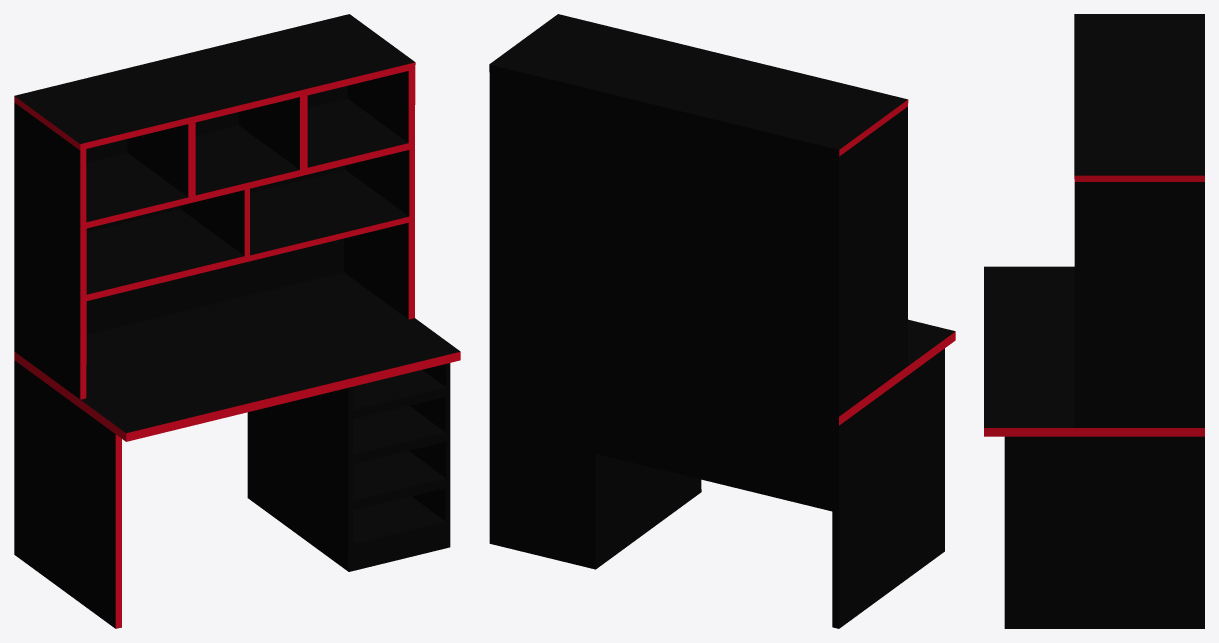
The model's file is estante1.fbx.
The picture shows the model from 3 angles, left to right: view 1: azimuth 30°, elevation 25°; view 2: azimuth 150°, elevation 25°; view 3: azimuth 270°, elevation 25°; orthographic projection. The views are drawn at different scales.
Parts seen in each view (by area): view 1: Estante 1; view 2: Estante 1; view 3: Estante 1.
Part boxes in pixels (x1,y1,x2,y2): Estante 1: [14, 14, 460, 628]; Estante 1: [489, 14, 955, 628]; Estante 1: [984, 14, 1204, 628].
Bounding box in the file's own units: 205 × 268 × 118.
